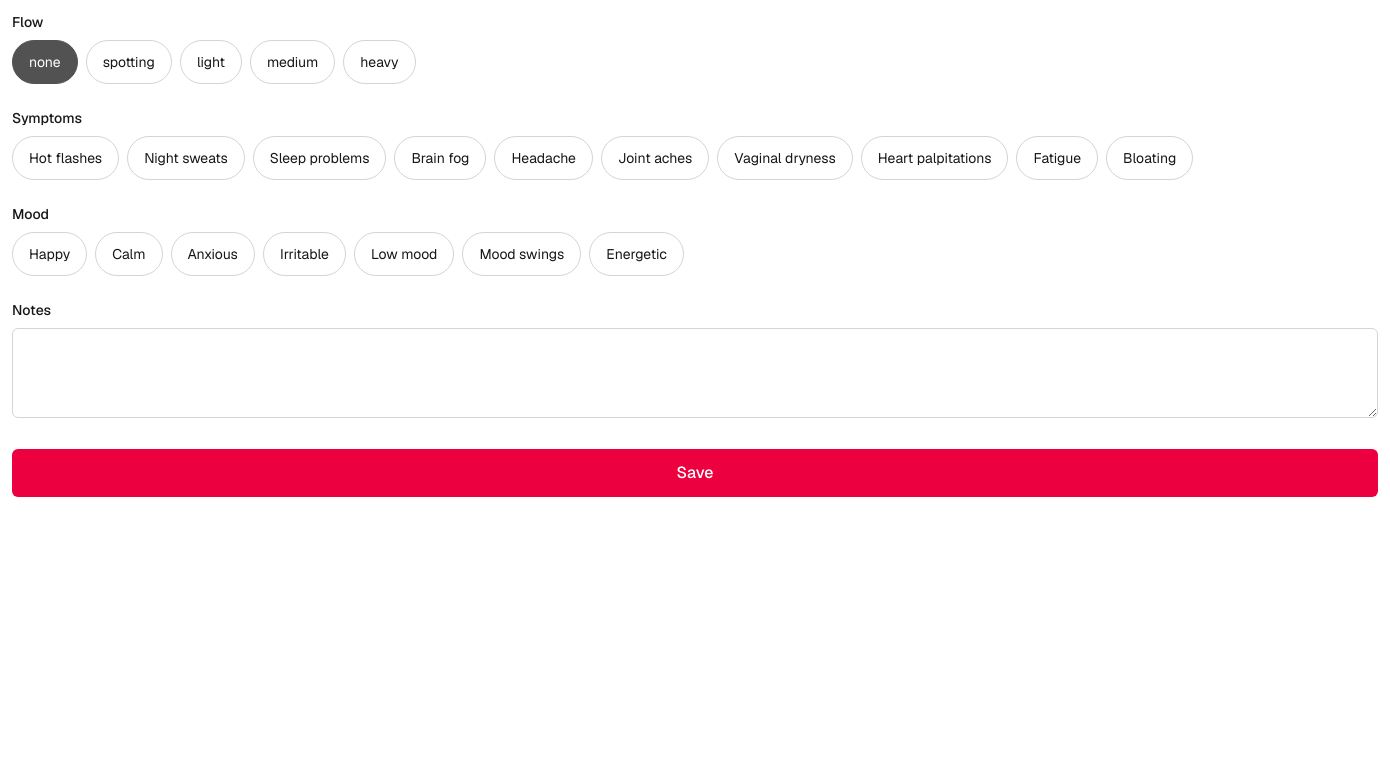
Test case: DailyLogForm perimenopause › round-trips selected perimenopause symptoms through save
Click the button "Hot flashes": (66, 158) [12,136,119,180]
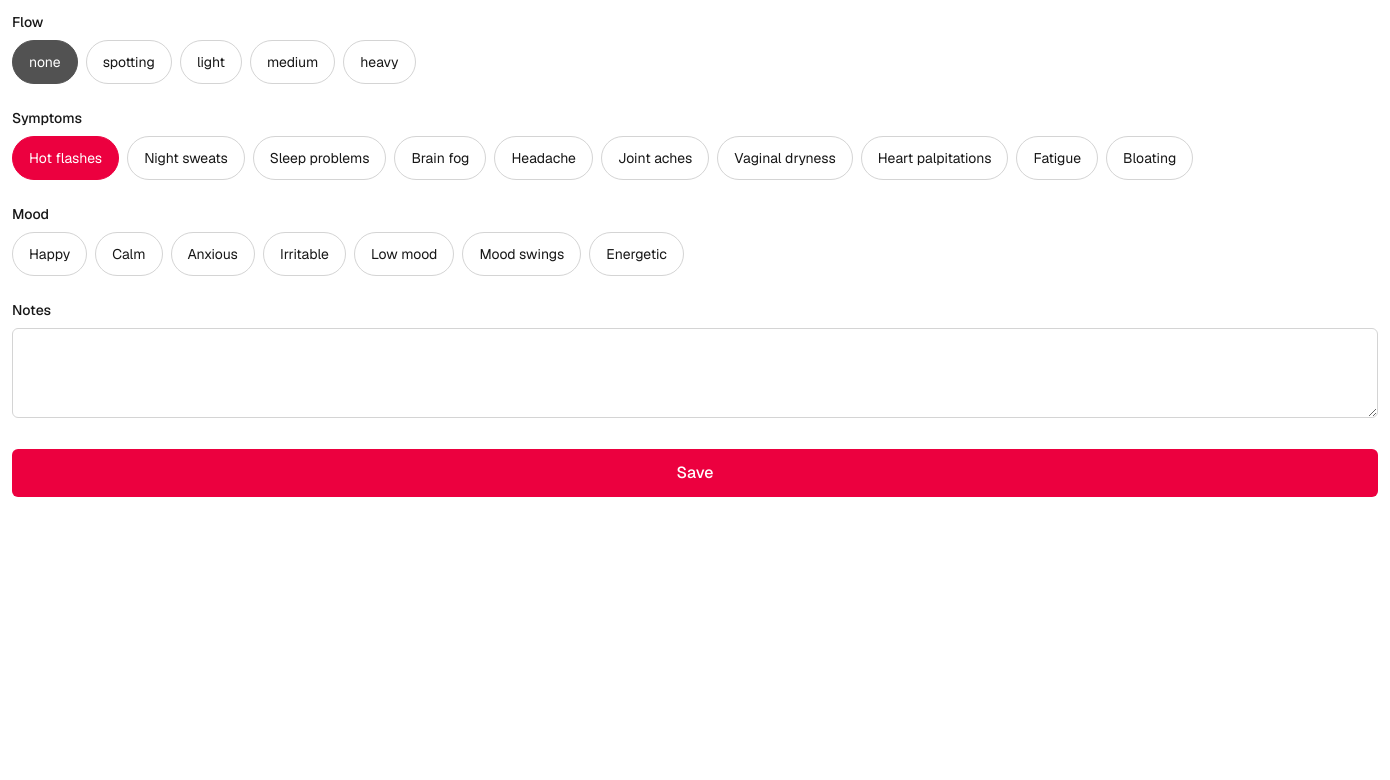
Click the button "Night sweats": (186, 158) [127,136,245,180]
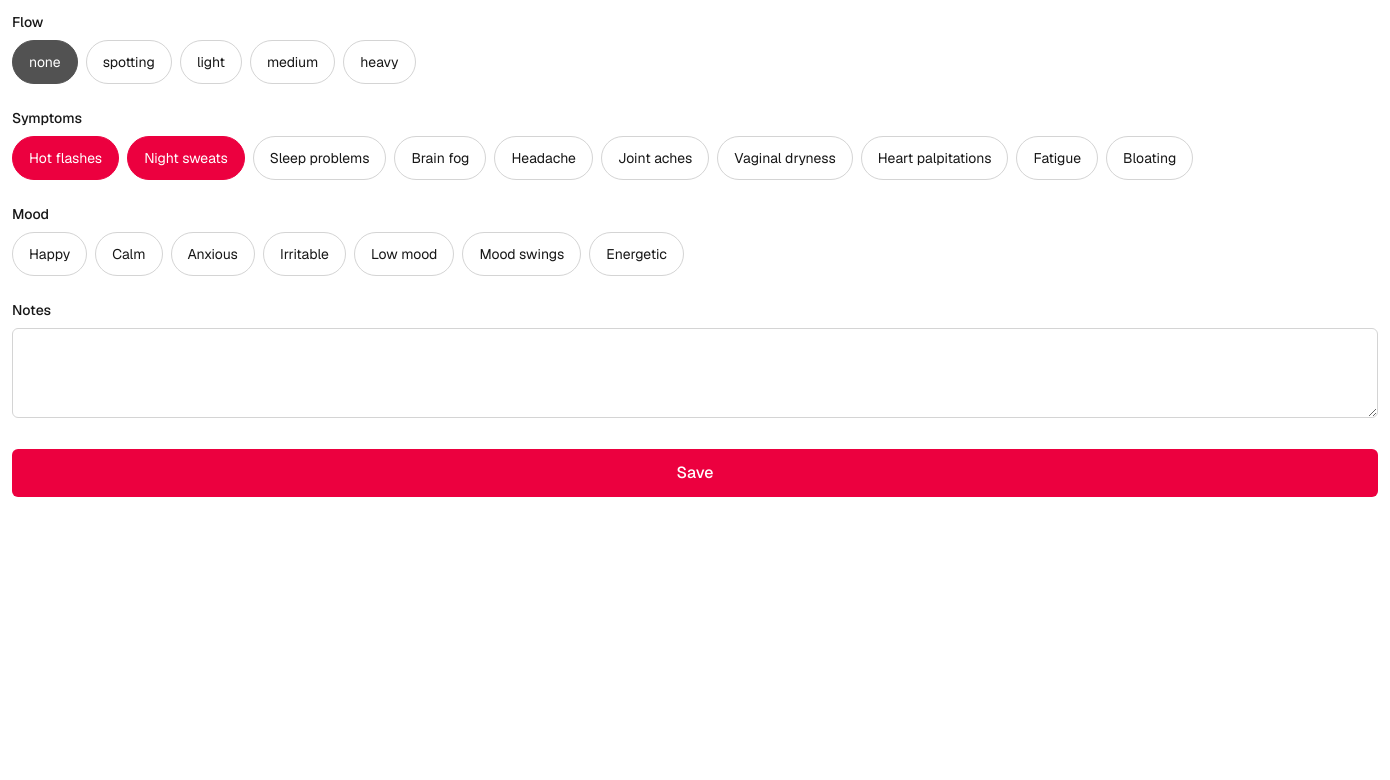
Click the button "Save": (695, 473) [12,449,1378,497]
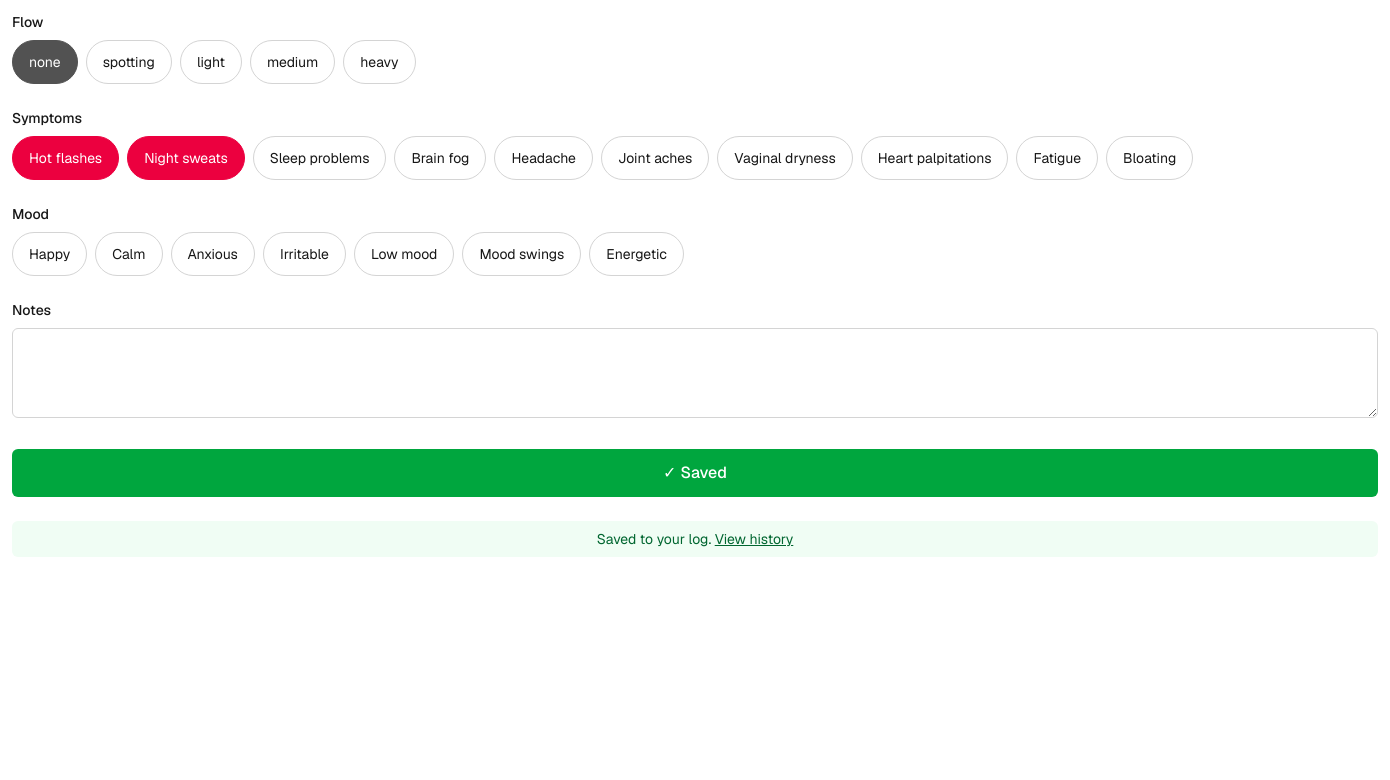
Now the message "Saved to your log. View history" is shown, box [12,521,1378,557]
